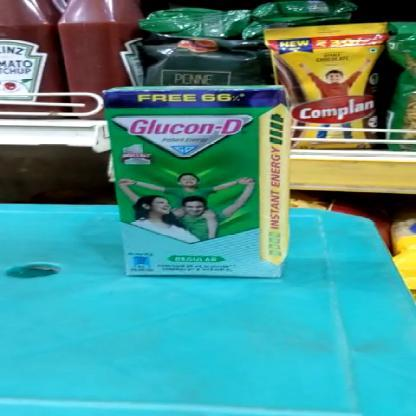Glucon D Regular 1-KG: (118, 86, 279, 274)
